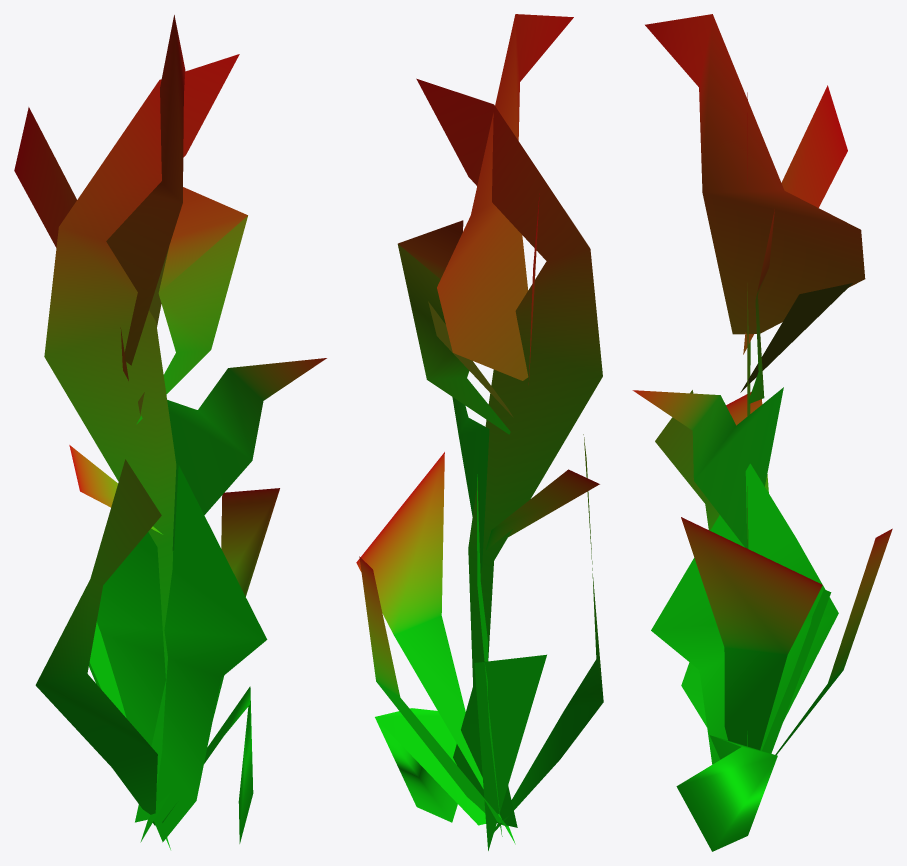
Rendered from Var1_LOD0.fbx.
The picture shows the model from 3 angles, left to right: view 1: azimuth 30°, elevation 25°; view 2: azimuth 150°, elevation 25°; view 3: azimuth 270°, elevation 25°; orthographic projection. The views are drawn at different scales.
Visible parts, largest first — view 1: _6234_Var1_LOD0; view 2: _6234_Var1_LOD0; view 3: _6234_Var1_LOD0.
Part boxes in pixels (box(x1,y1,x2,y2)): _6234_Var1_LOD0: box(14, 15, 326, 849); _6234_Var1_LOD0: box(356, 14, 603, 850); _6234_Var1_LOD0: box(632, 14, 892, 851).
Bounding box in the file's own units: 10.54 × 38 × 11.04.
